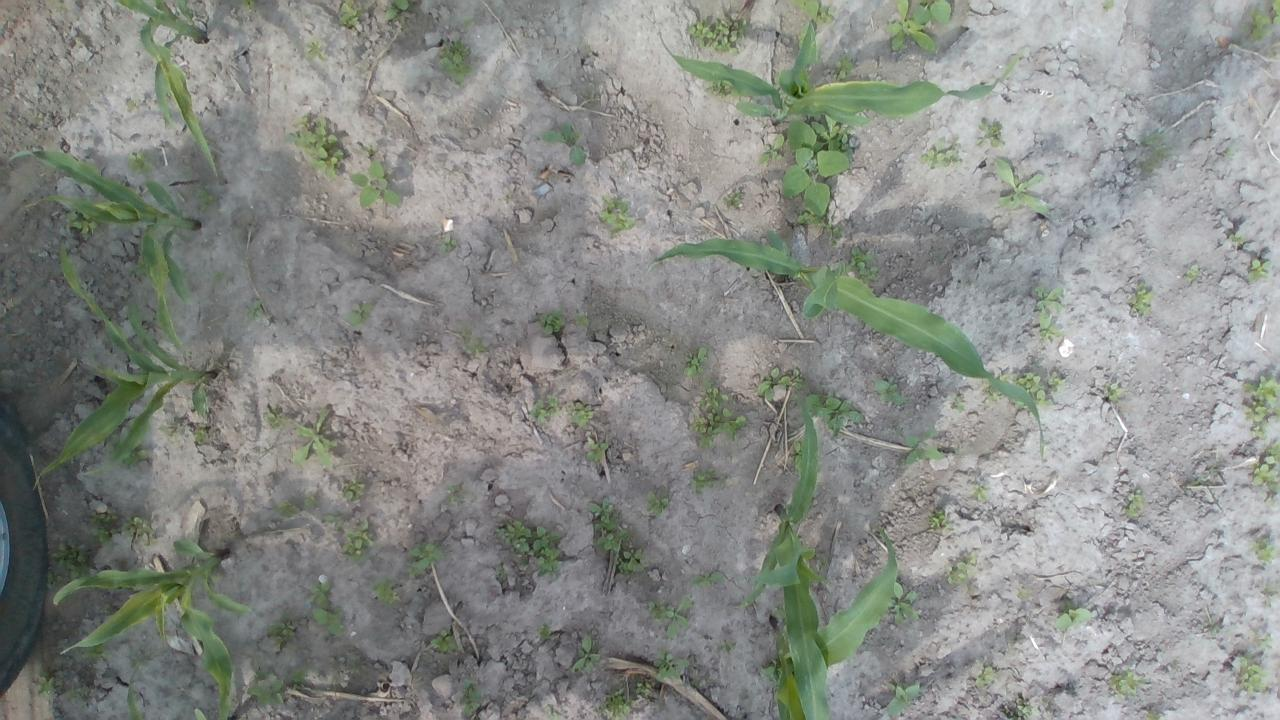Maize: (654, 237, 1048, 460), (32, 238, 218, 493), (8, 129, 202, 356), (658, 11, 1019, 124), (53, 534, 249, 718), (772, 526, 898, 720), (119, 0, 224, 178), (748, 408, 819, 624), (125, 668, 148, 719), (195, 709, 209, 719)
Weeds: (781, 117, 844, 226), (494, 523, 562, 582), (284, 406, 344, 467), (882, 0, 952, 52), (292, 114, 344, 183), (694, 386, 742, 448), (1242, 371, 1280, 441), (998, 157, 1047, 211), (686, 15, 752, 55), (351, 158, 397, 214), (806, 396, 864, 437), (247, 668, 307, 706), (308, 582, 344, 638), (590, 498, 628, 550), (1030, 284, 1062, 344), (544, 124, 584, 166), (903, 429, 950, 463), (437, 41, 472, 85), (1245, 0, 1280, 44), (600, 194, 634, 239), (55, 541, 93, 581), (650, 600, 690, 637), (1142, 128, 1166, 182), (874, 374, 910, 409), (343, 519, 377, 556), (85, 506, 118, 544), (573, 633, 603, 674), (1022, 372, 1060, 404), (601, 683, 633, 720), (885, 682, 922, 714), (650, 650, 690, 678), (456, 680, 484, 720), (406, 543, 442, 573), (893, 582, 920, 620), (346, 654, 376, 688), (758, 366, 788, 400), (921, 144, 959, 168), (794, 0, 832, 24), (1108, 670, 1146, 694), (852, 245, 878, 280), (568, 400, 598, 430), (1126, 288, 1156, 318), (1057, 605, 1096, 628), (1238, 665, 1267, 694), (128, 148, 156, 178), (686, 466, 716, 494), (619, 544, 645, 576), (681, 348, 707, 378), (268, 626, 292, 658), (127, 518, 157, 543), (534, 311, 566, 334), (70, 212, 100, 236), (760, 132, 781, 166), (339, 480, 370, 503), (972, 121, 1003, 144), (372, 580, 398, 607), (334, 0, 356, 30), (1256, 461, 1278, 489), (432, 632, 456, 657), (828, 58, 855, 80), (196, 183, 218, 209), (946, 562, 972, 584), (761, 658, 781, 686), (691, 570, 722, 588), (348, 302, 373, 324), (384, 2, 410, 23), (260, 404, 279, 432), (36, 670, 58, 694), (1250, 258, 1272, 282), (646, 490, 670, 512), (308, 39, 329, 63), (633, 679, 658, 699), (1130, 489, 1146, 520), (1260, 537, 1278, 563), (278, 501, 300, 522), (1256, 631, 1278, 652), (191, 428, 216, 446), (710, 82, 738, 98), (929, 507, 949, 529), (446, 483, 463, 508), (588, 442, 608, 463), (974, 670, 1000, 686), (570, 308, 592, 326), (82, 646, 109, 660), (535, 402, 553, 423), (134, 652, 156, 668), (1264, 438, 1280, 460), (1012, 701, 1031, 719), (971, 484, 992, 500), (122, 448, 144, 463), (1106, 383, 1122, 402), (538, 624, 554, 642), (726, 189, 743, 205), (951, 393, 966, 411), (66, 685, 80, 704), (326, 512, 344, 526), (305, 492, 321, 507), (248, 302, 263, 318), (1018, 586, 1034, 601), (1187, 264, 1203, 278), (124, 97, 137, 114), (443, 238, 459, 251), (1146, 706, 1160, 720), (963, 551, 977, 565), (827, 227, 843, 239), (1102, 0, 1118, 11), (472, 340, 484, 354), (240, 0, 254, 10), (1232, 234, 1242, 243)
